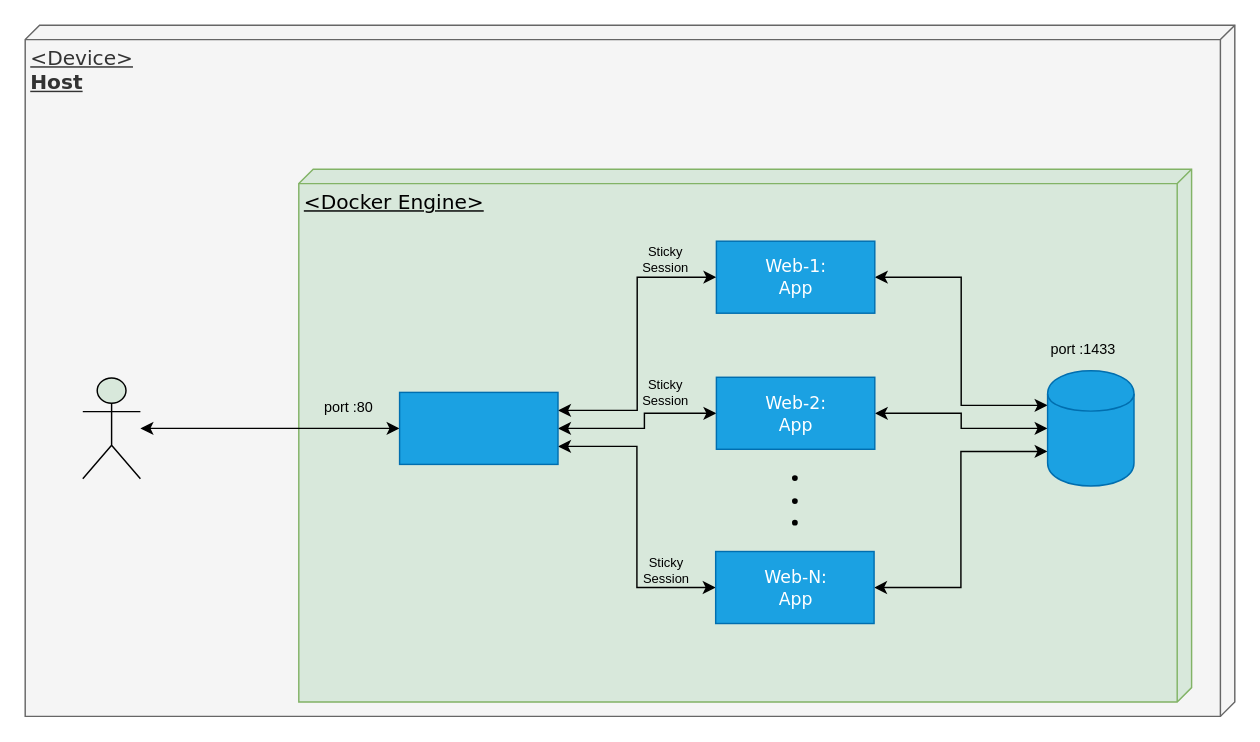
This 1260x742 diagram has some shape labels left out. The centre of each missing label's shape, as x and y in pixels:
"Load balancer: HAProxy" goes at (x=478, y=427).
"MS SQL DB" goes at (x=1090, y=427).
